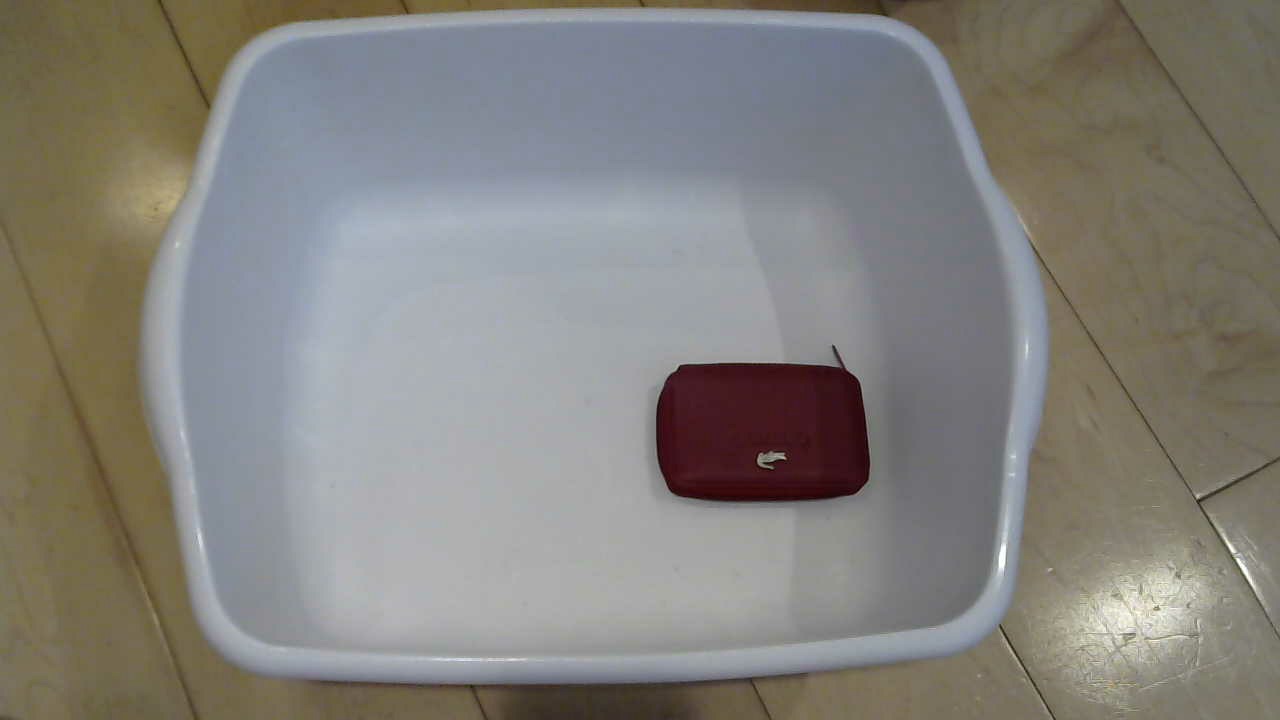wallet: (632, 350, 889, 516)
